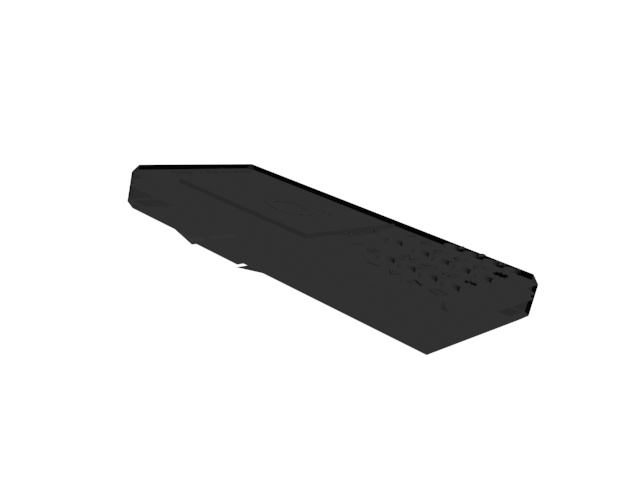mobile_phone: (121, 161, 544, 360)
